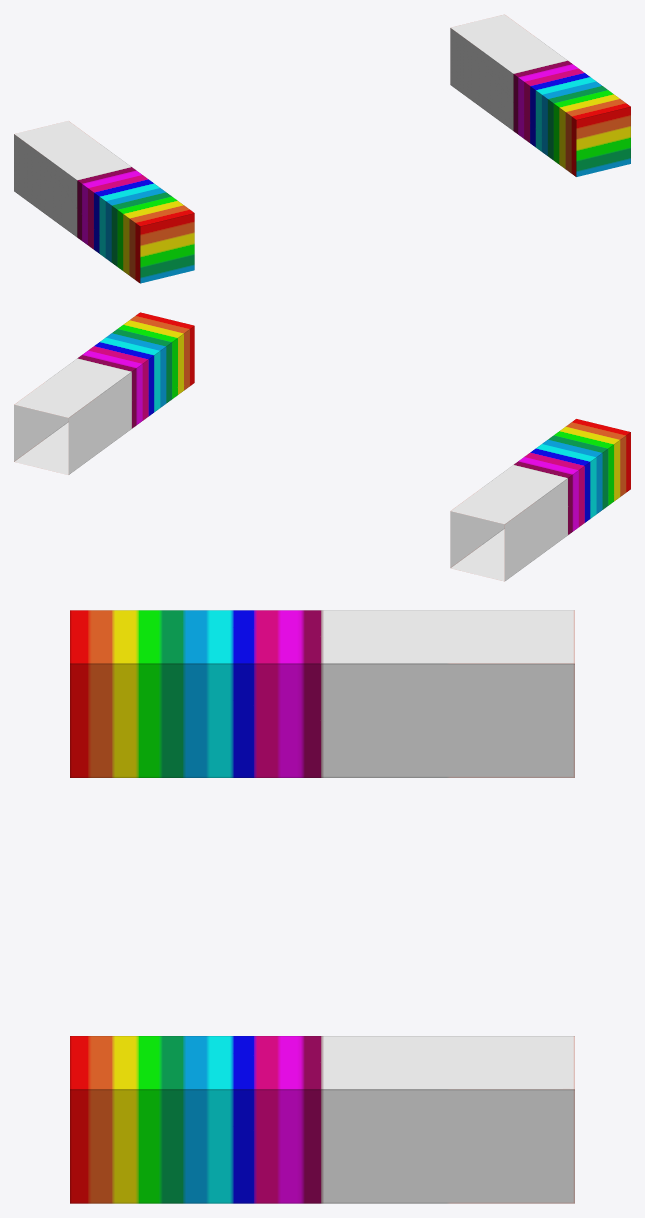
File: MachineGun.fbx
3 views of the same model, one above another, from view 1: azimuth 30°, elevation 25°; view 2: azimuth 150°, elevation 25°; view 3: azimuth 270°, elevation 25° (orthographic). The views are drawn at different scales.
Visible parts, largest first — view 1: MachineGun; view 2: MachineGun; view 3: MachineGun.
Boxes of the visible parts, x1,y1,x2,y2 form: MachineGun: [14, 14, 630, 283]; MachineGun: [14, 312, 630, 581]; MachineGun: [70, 610, 574, 1203].
Size of the model in its own units: 1.19 by 0.132 by 0.5282.
Materials: 1 (1 with a texture image).
